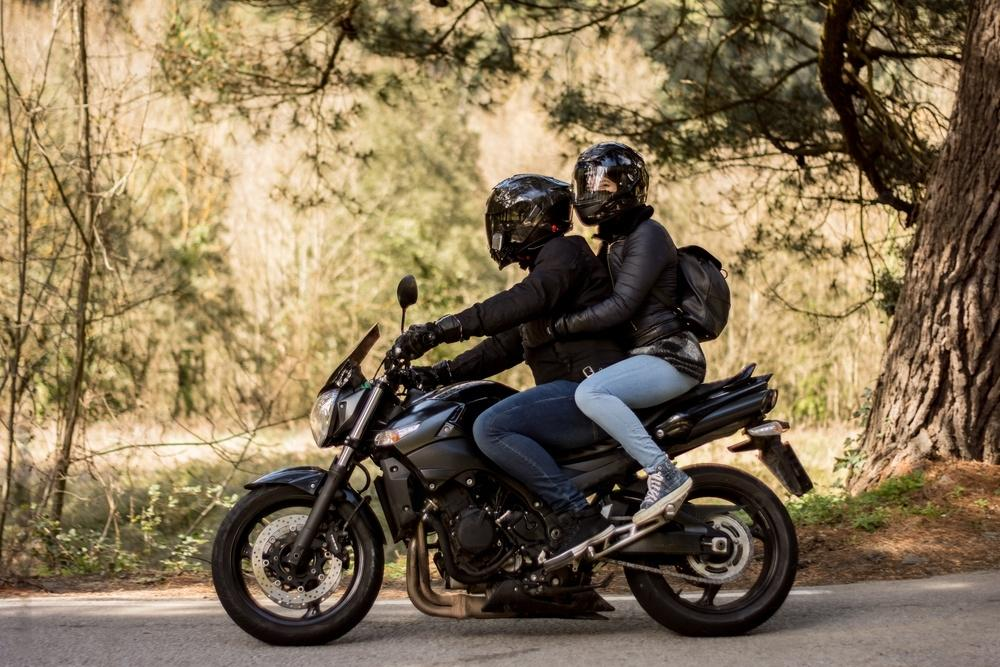helmet: (484, 173, 576, 271), (569, 140, 651, 228)
